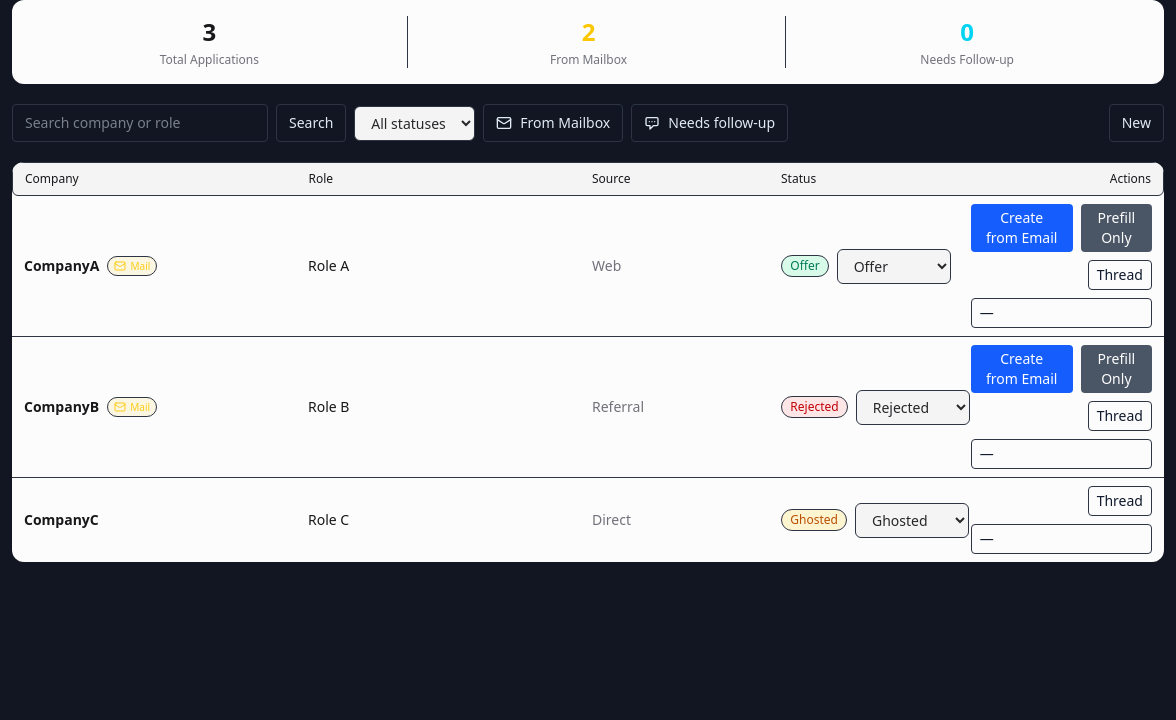
Scenario: Tracker Needs Follow-up Filter › should handle edge case where no apps need follow-up
This screenshot has width=1176, height=720.
Expected: the number of elements with test id "tracker-row" is 3, [12,196,1164,337]; [12,337,1164,478]; [12,478,1164,562]
Note: Enable needs follow-up filter
Step 1. Click the button with test id "filter-needs-followup" → click(710, 123), box [631,104,788,142]
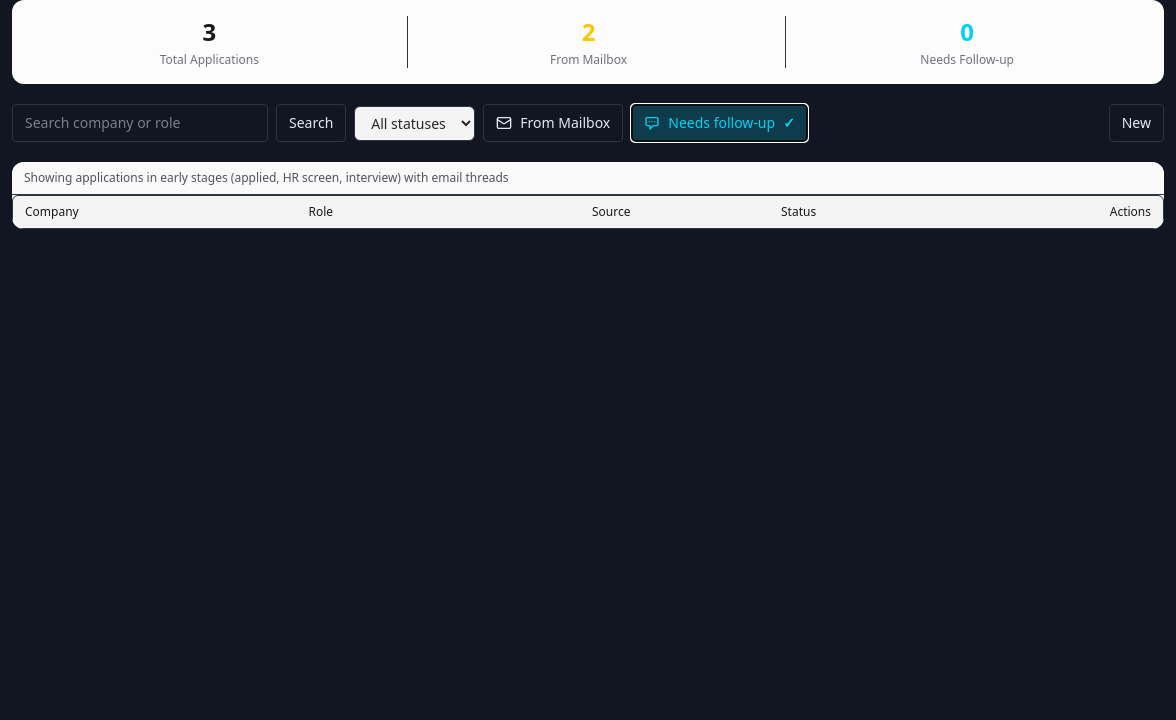
Expected: no elements with test id "tracker-row" are shown
